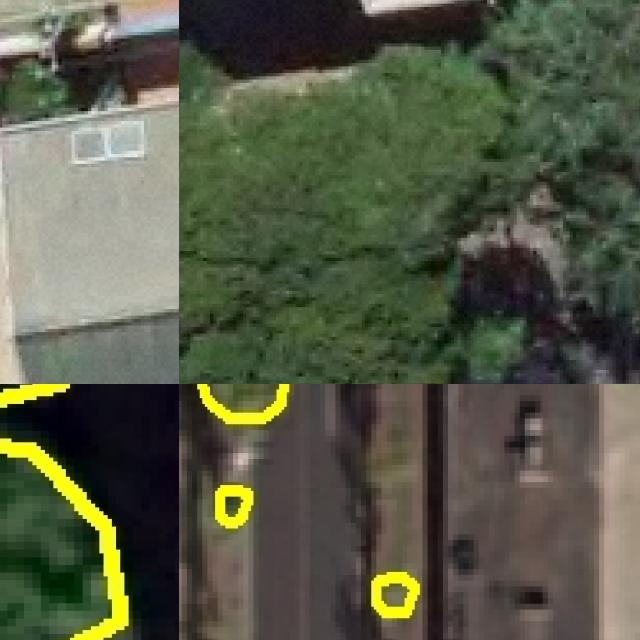trees: (180, 47, 511, 385), (491, 1, 640, 330), (1, 443, 121, 640), (1, 59, 72, 132), (201, 385, 285, 419), (375, 576, 416, 614), (216, 489, 249, 524)
